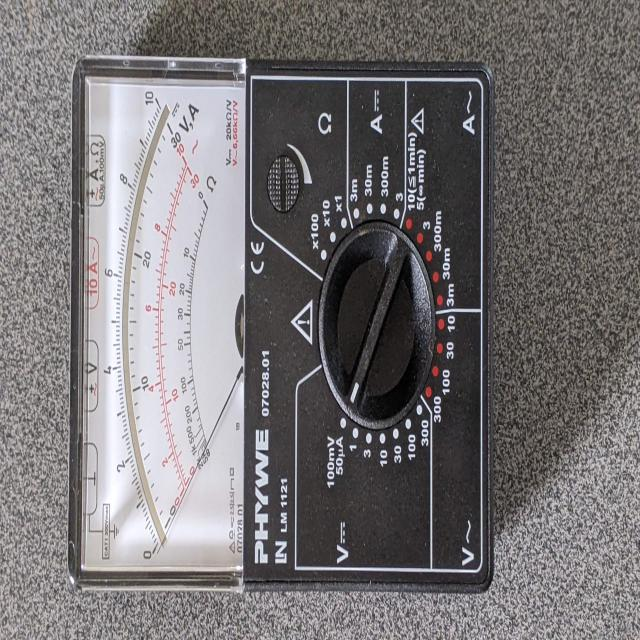Analog Multimeter: (63, 57, 505, 604)
